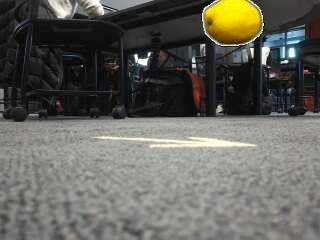lemon: (204, 0, 261, 44)
